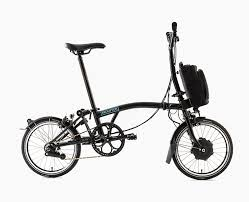bicycle: (18, 16, 238, 189)
